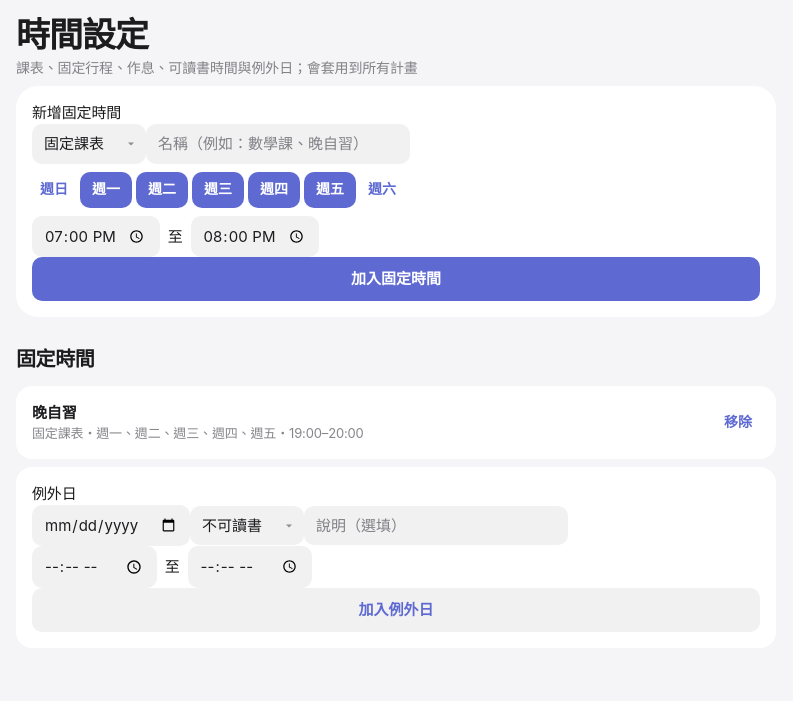
固定時間移除失敗復原 › DELETE 已提交但回應遺失時讀回確認且不重送
Expected: the text "晚自習" is shown, [32,403,77,422]
Click the button "移除" at (738, 423), box [716,405,760,441]
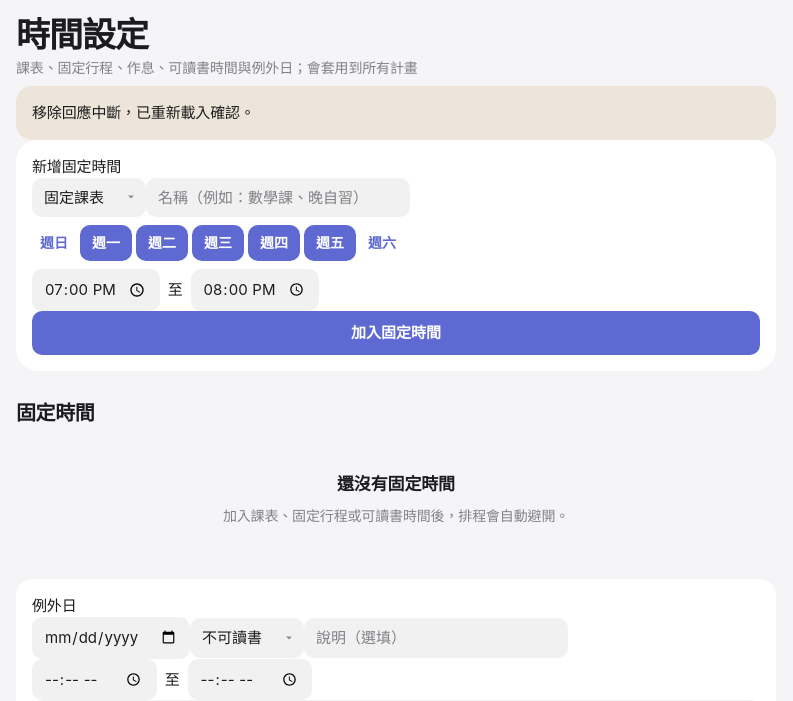
Expected: the message shows "已重新載入確認", [32,103,255,122]
